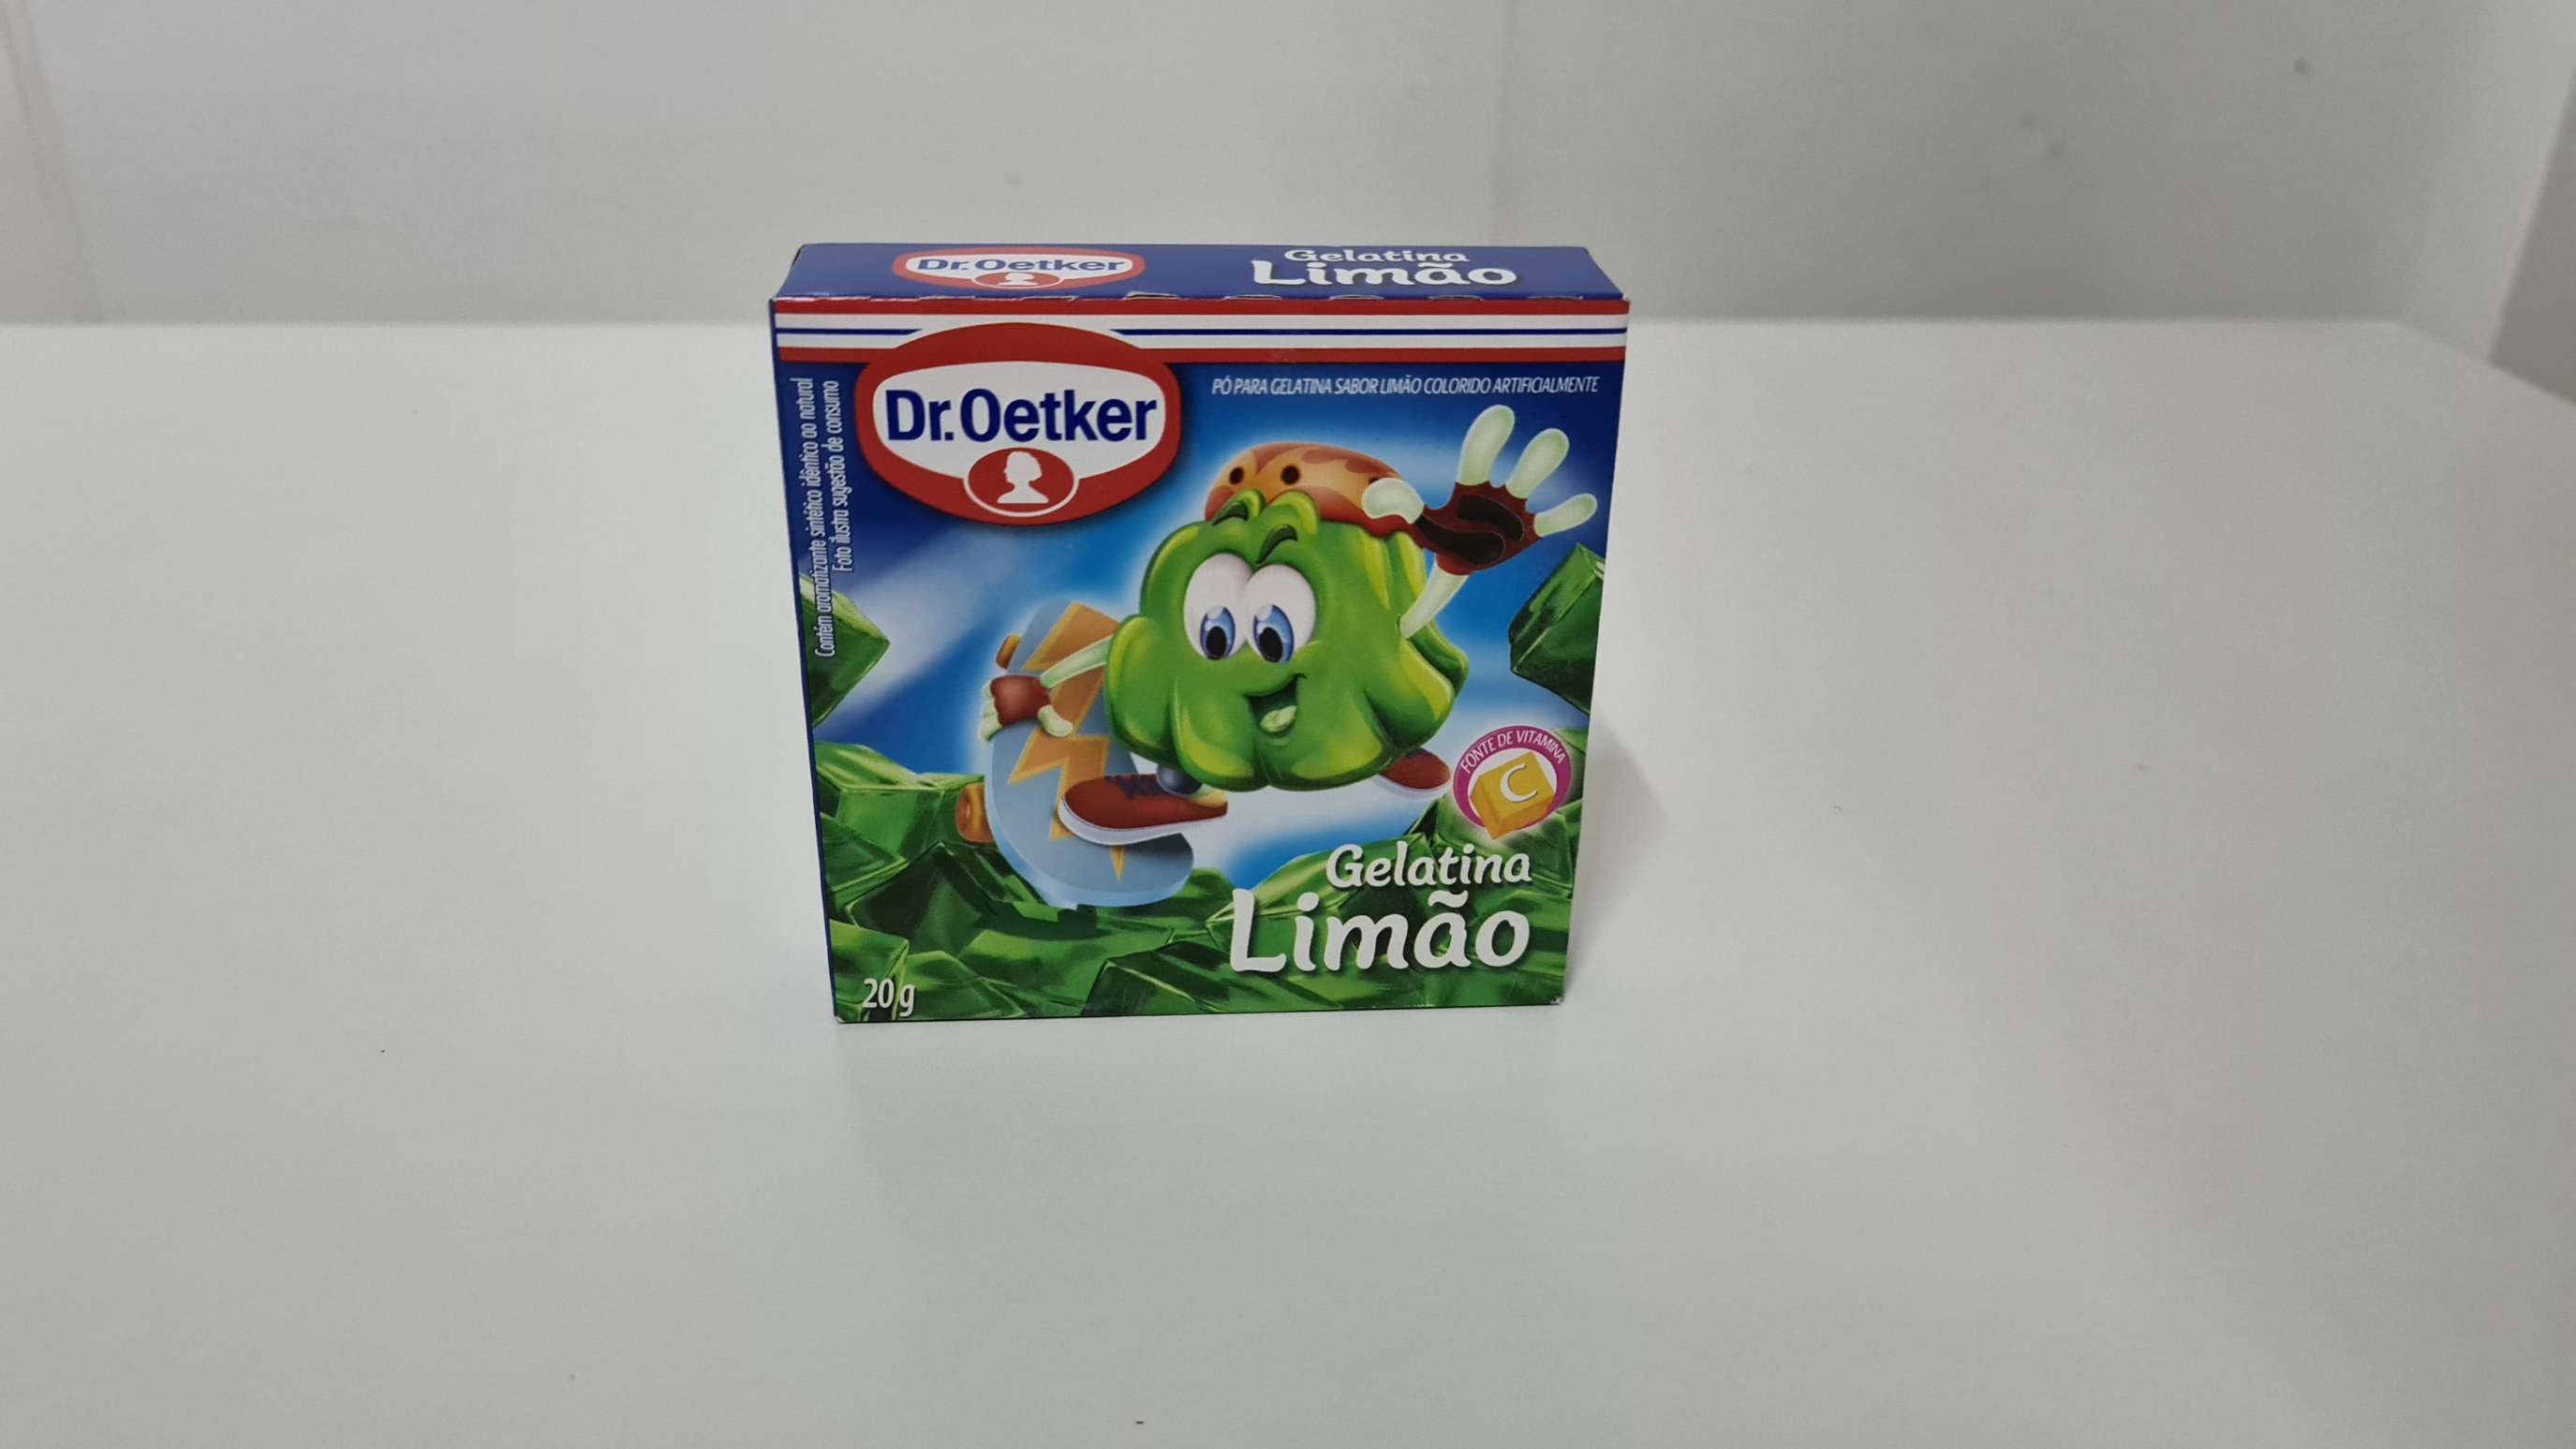Gelatine: (762, 225, 1640, 1054)
